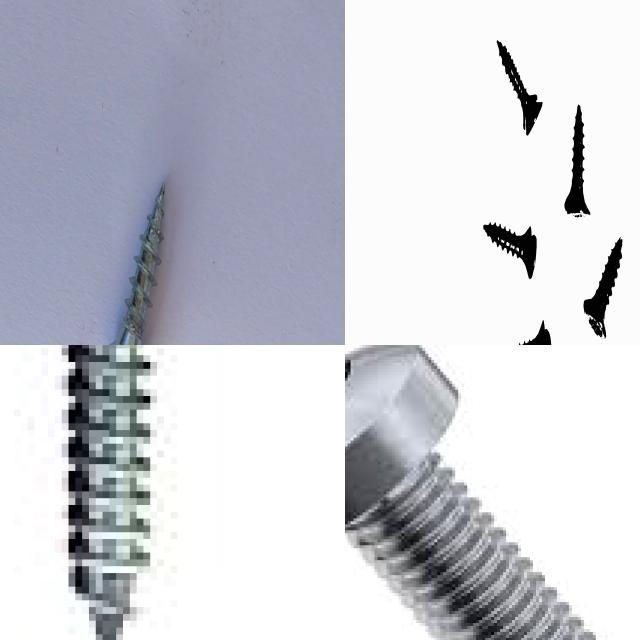Screw: (345, 345, 607, 640), (69, 345, 150, 640), (109, 182, 165, 345), (498, 39, 543, 134), (585, 237, 623, 337), (484, 222, 537, 278), (565, 103, 590, 216), (518, 320, 552, 345)
